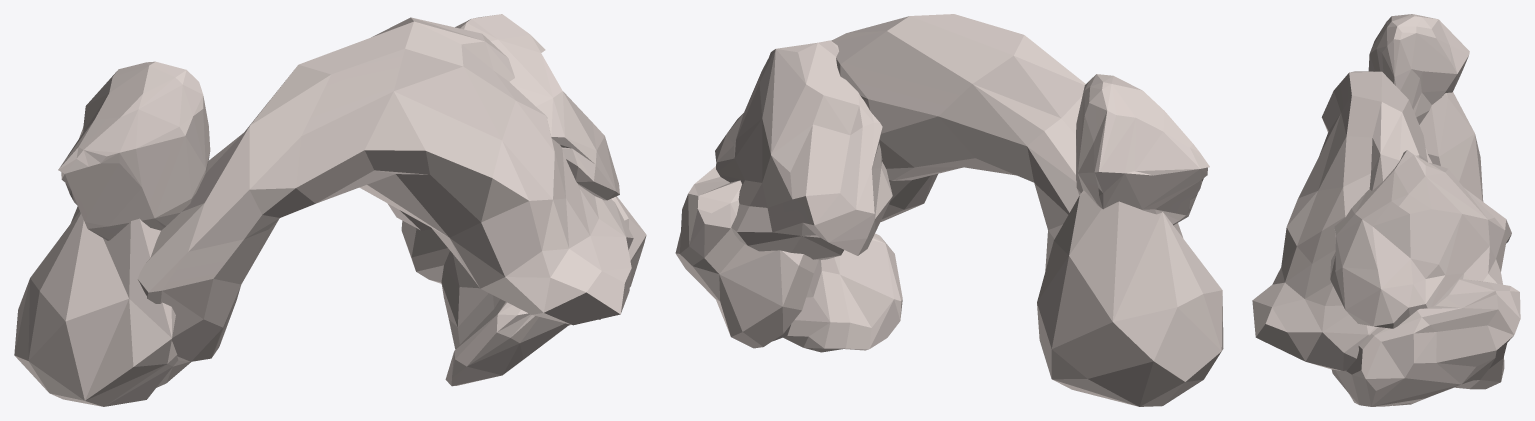
File: rock_021.fbx
The picture shows the model from 3 angles, left to right: view 1: azimuth 30°, elevation 25°; view 2: azimuth 150°, elevation 25°; view 3: azimuth 270°, elevation 25°; orthographic projection. The views are drawn at different scales.
Parts seen in each view (by area): view 1: rock.021; view 2: rock.021; view 3: rock.021.
Boxes of the visible parts, x1,y1,x2,y2 form: rock.021: (14, 14, 646, 406); rock.021: (675, 14, 1223, 406); rock.021: (1252, 14, 1520, 406).
Bounding box in the file's own units: 2832 × 1756 × 1525.
1 material, 1 textured.
